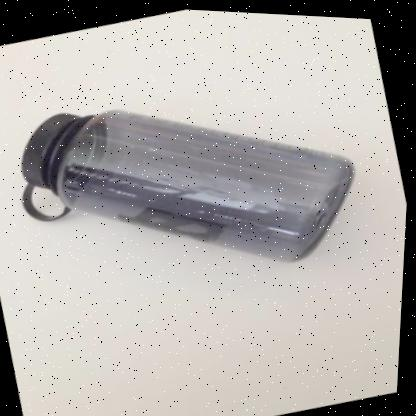Plastic: (23, 108, 355, 258)
